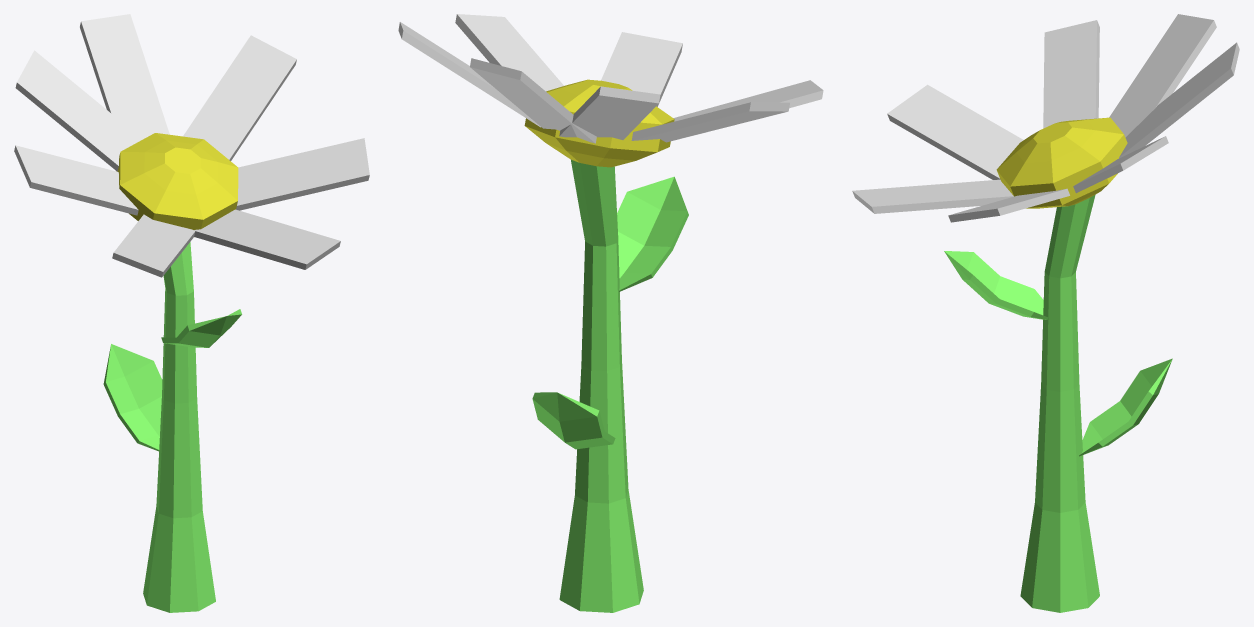
Rendered from florblanca.fbx.
3 renders of one model, left to right at view 1: azimuth 30°, elevation 25°; view 2: azimuth 150°, elevation 25°; view 3: azimuth 270°, elevation 25°, orthographic. The views are drawn at different scales.
Parts seen in each view (by area): view 1: Circle; view 2: Circle; view 3: Circle.
Boxes of the visible parts, left/top/right/bottom form: Circle: left=14, top=14, right=369, bottom=612; Circle: left=398, top=14, right=823, bottom=612; Circle: left=852, top=14, right=1239, bottom=612.
Bounding box in the file's own units: 72.17 × 115 × 73.95.
